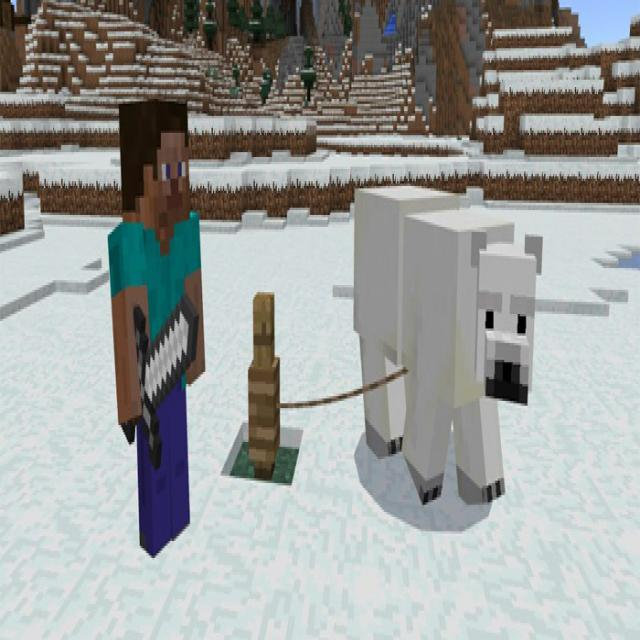Polar Bear: (352, 174, 542, 505)
